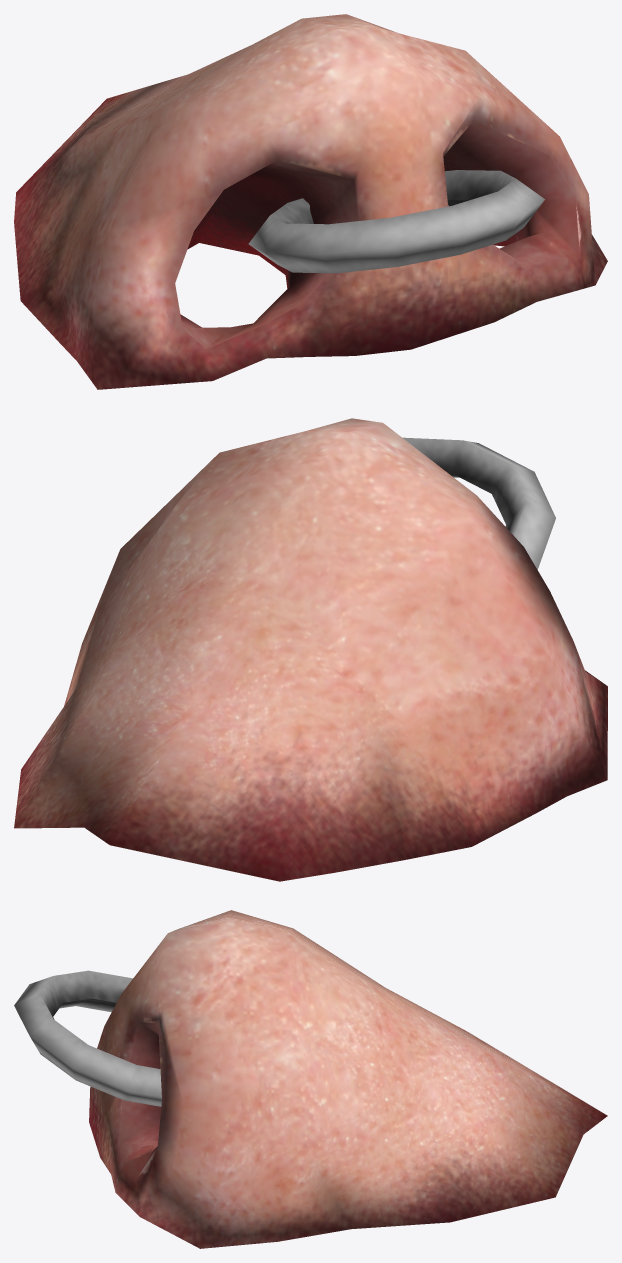
Rendered from Nose_1_low.fbx.
3 renders of one model, top to bottom at view 1: azimuth 30°, elevation 25°; view 2: azimuth 150°, elevation 25°; view 3: azimuth 270°, elevation 25°, orthographic. The views are drawn at different scales.
Visible parts, largest first — view 1: nose_1_low, Ring_nose_low; view 2: nose_1_low, Ring_nose_low; view 3: nose_1_low, Ring_nose_low.
Boxes of the visible parts, x1=… form: nose_1_low: x1=14, y1=14, x2=607, y2=389; Ring_nose_low: x1=248, y1=170, x2=544, y2=273; nose_1_low: x1=14, y1=418, x2=607, y2=881; Ring_nose_low: x1=402, y1=437, x2=555, y2=569; nose_1_low: x1=89, y1=910, x2=607, y2=1248; Ring_nose_low: x1=14, y1=970, x2=161, y2=1106.
Size of the model in its own units: 0.042 by 0.0236 by 0.0526.
